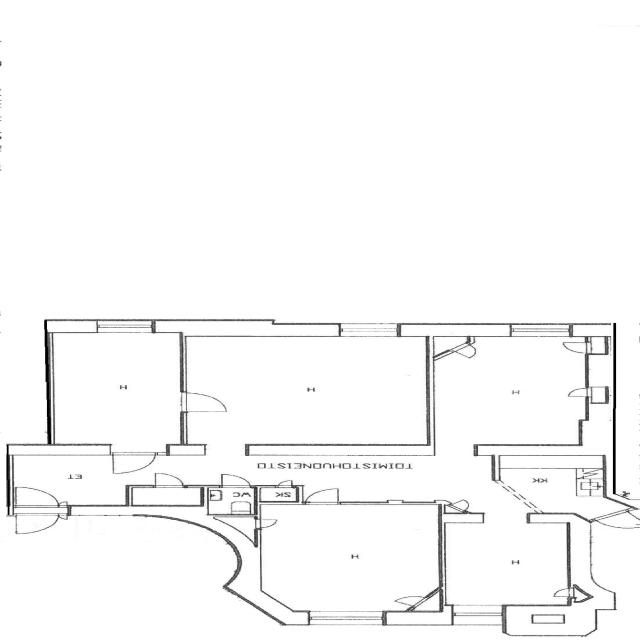door: (8, 484, 67, 536), (174, 389, 236, 415), (203, 484, 254, 515), (105, 450, 159, 476), (594, 510, 638, 530), (257, 486, 300, 504), (302, 486, 342, 505), (150, 470, 187, 488), (215, 472, 252, 488), (557, 339, 592, 354), (562, 386, 594, 399), (251, 516, 282, 529), (272, 478, 298, 488)
window: (334, 321, 403, 338), (89, 320, 152, 334), (335, 498, 431, 507)
zone: (180, 332, 432, 448), (255, 502, 444, 618), (427, 332, 592, 448), (43, 326, 185, 446), (439, 519, 574, 607), (495, 460, 603, 514), (502, 605, 579, 637), (127, 486, 203, 507), (204, 485, 255, 516), (255, 485, 299, 503), (568, 324, 615, 337)
